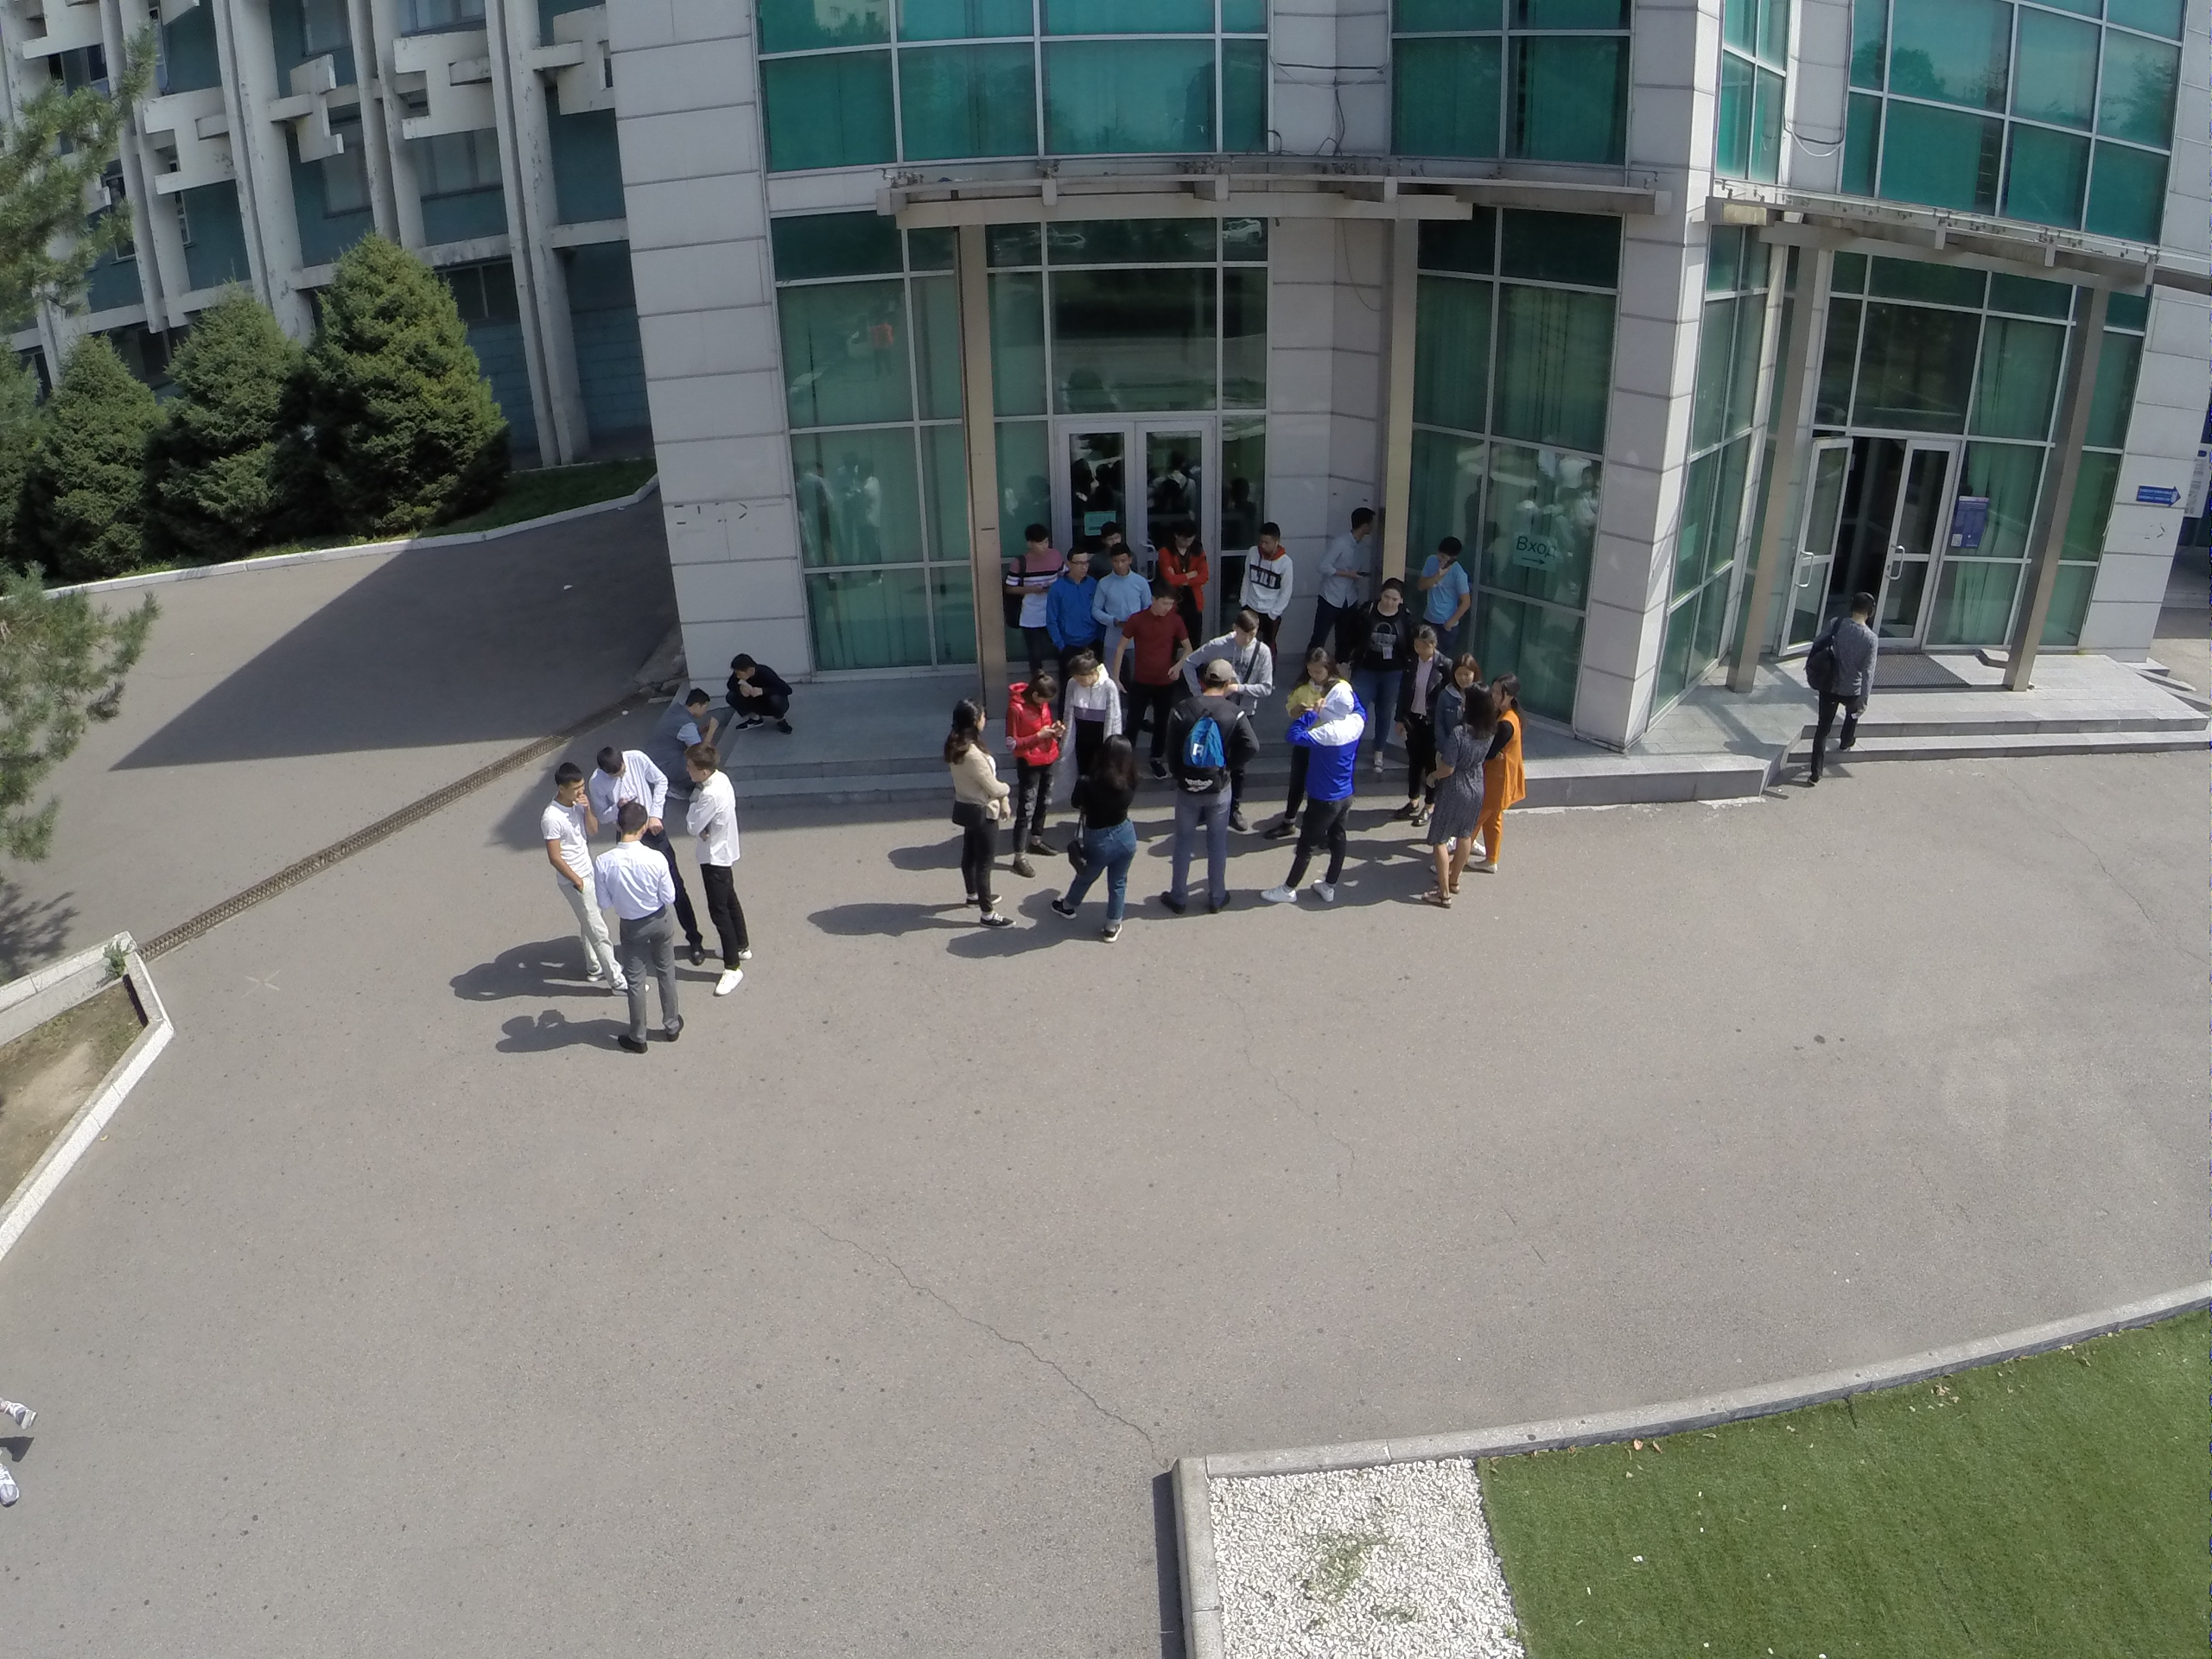person: (591, 790, 692, 1055), (677, 731, 759, 1000), (532, 753, 617, 1014), (1166, 651, 1240, 929), (1802, 575, 1883, 796), (938, 691, 1011, 931), (1293, 673, 1359, 909), (1061, 747, 1136, 950), (998, 666, 1061, 891), (1350, 578, 1415, 791), (1129, 588, 1187, 784), (1430, 690, 1479, 909), (1184, 613, 1286, 702), (1243, 514, 1299, 648), (1006, 520, 1052, 671), (715, 650, 798, 734), (1489, 675, 1524, 875), (1326, 500, 1376, 635), (1156, 513, 1206, 628), (1051, 540, 1092, 667), (586, 740, 658, 810), (1421, 533, 1472, 637), (1402, 626, 1440, 747), (1100, 547, 1140, 652), (1439, 648, 1484, 690)
